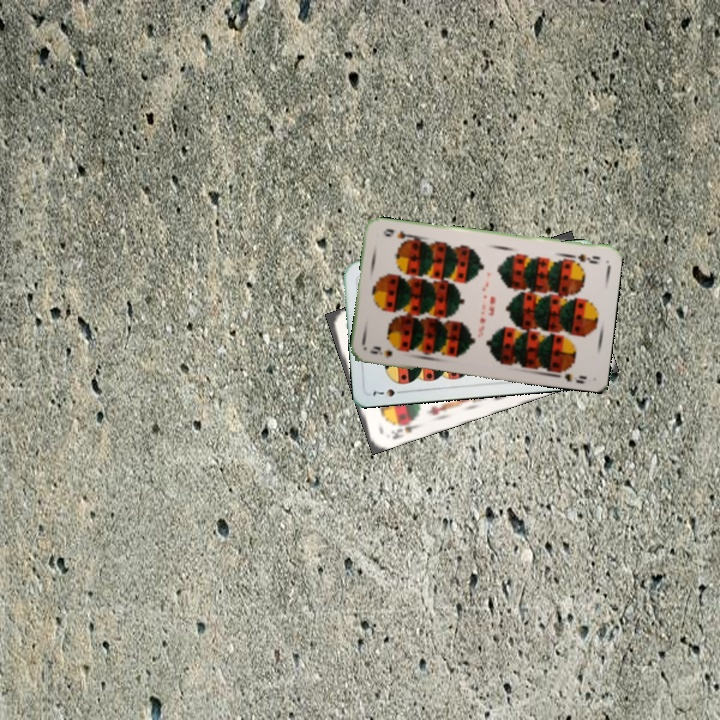S7: (369, 385, 408, 399)
S9: (565, 250, 602, 266), (366, 342, 395, 361)
SK: (387, 414, 421, 442)
